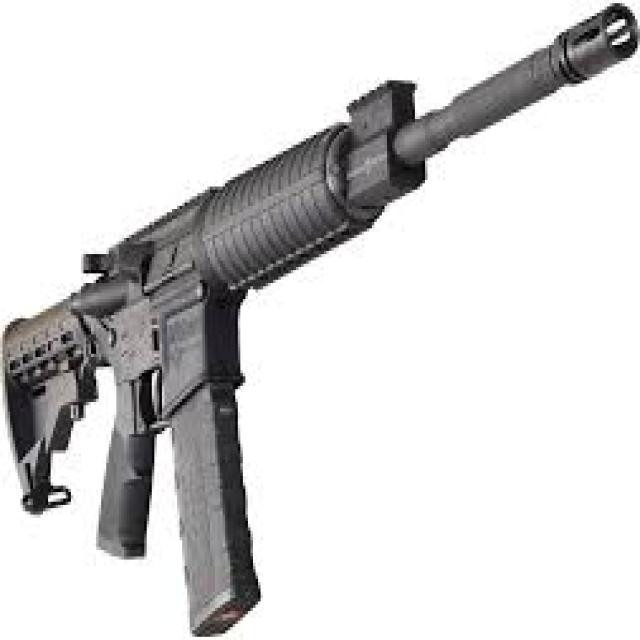rifle: (1, 2, 636, 640)
